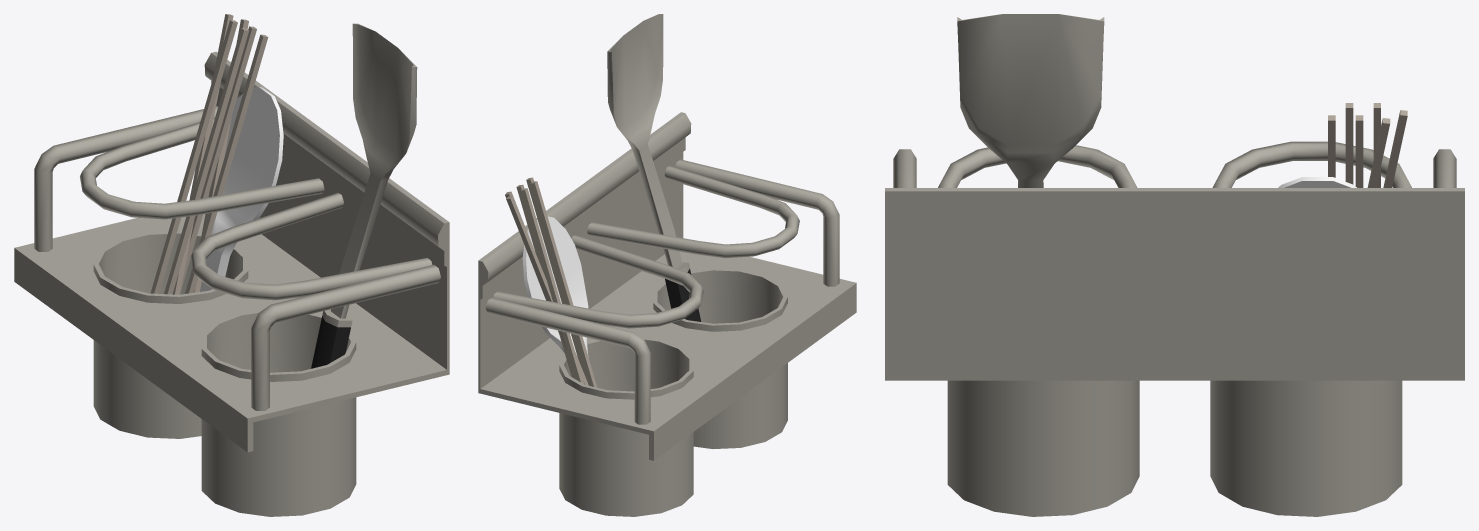
Rendered from RSRKY008.FBX.
The picture shows the model from 3 angles, left to right: view 1: azimuth 30°, elevation 25°; view 2: azimuth 150°, elevation 25°; view 3: azimuth 270°, elevation 25°; orthographic projection. The views are drawn at different scales.
Visible parts, largest first — view 1: RSRKY008; view 2: RSRKY008; view 3: RSRKY008.
Part boxes in pixels (x1,y1,x2,y2): RSRKY008: [14, 14, 449, 516]; RSRKY008: [478, 14, 856, 516]; RSRKY008: [885, 14, 1464, 516].
Size of the model in its own units: 381 by 761 by 762.
